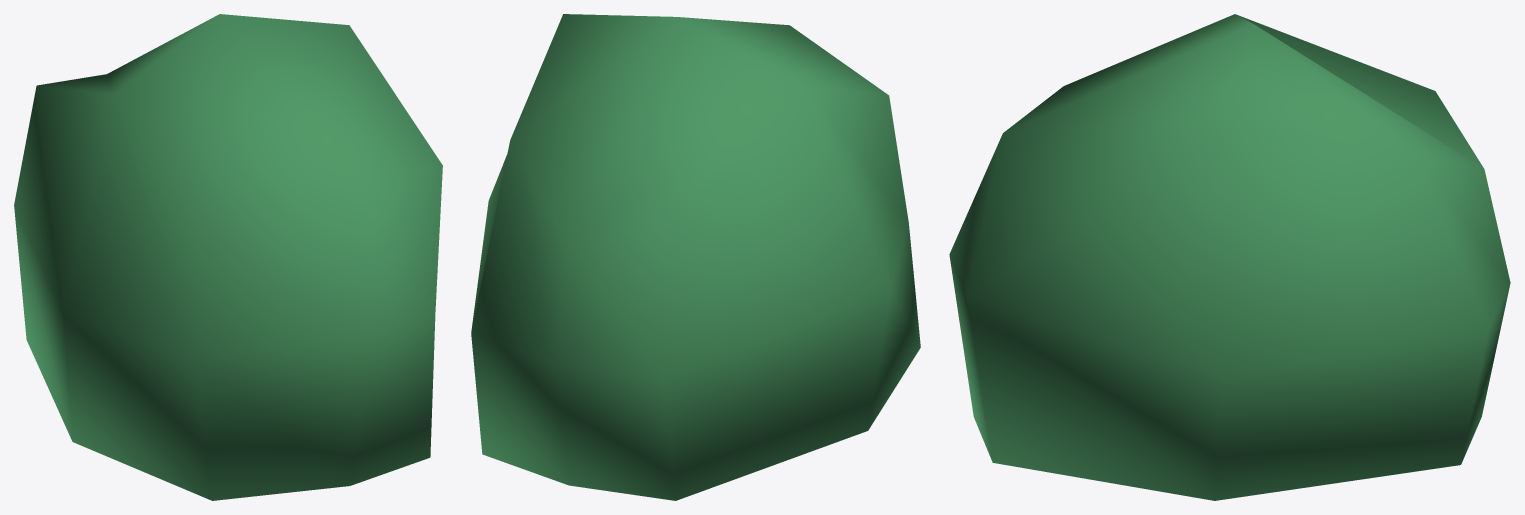
File: Bush2.fbx
3 views of the same model, side by side, from view 1: azimuth 30°, elevation 25°; view 2: azimuth 150°, elevation 25°; view 3: azimuth 270°, elevation 25° (orthographic). The views are drawn at different scales.
Parts seen in each view (by area): view 1: Bush1; view 2: Bush1; view 3: Bush1.
Part boxes in pixels (x1,y1,x2,y2): Bush1: (14,14,442,500); Bush1: (471,14,920,500); Bush1: (949,14,1510,500).
Size of the model in its own units: 821 by 774 by 1000.
1 material, 1 textured.
